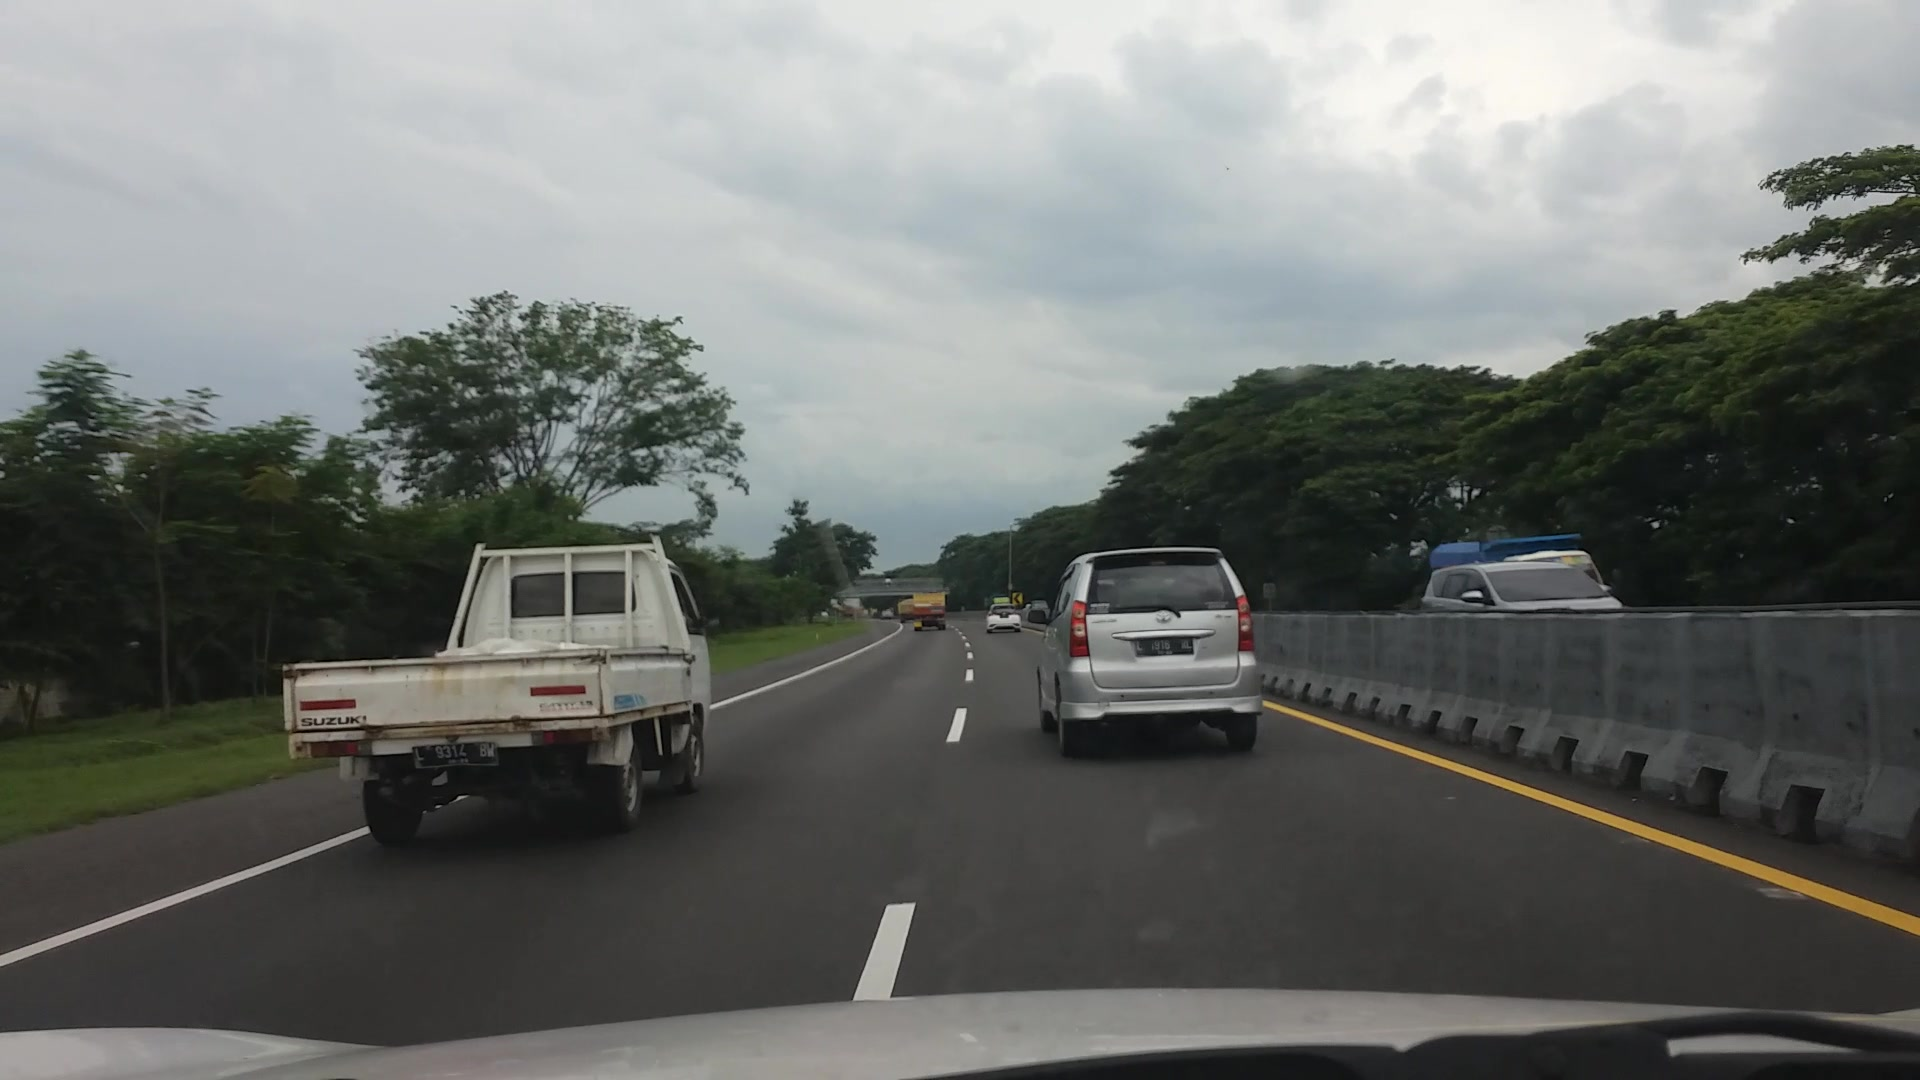plate_positive: (411, 742, 497, 769), (1134, 638, 1193, 655)
